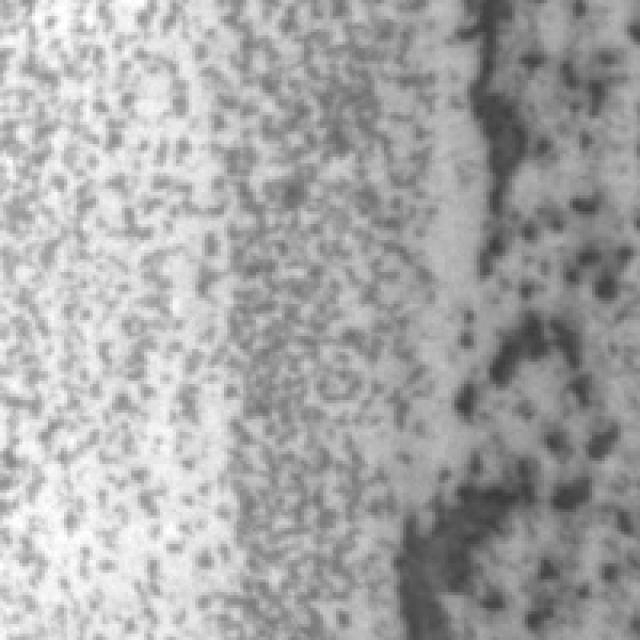patches: (388, 483, 518, 637)
pitted_surface: (0, 0, 397, 630), (419, 0, 637, 621)
